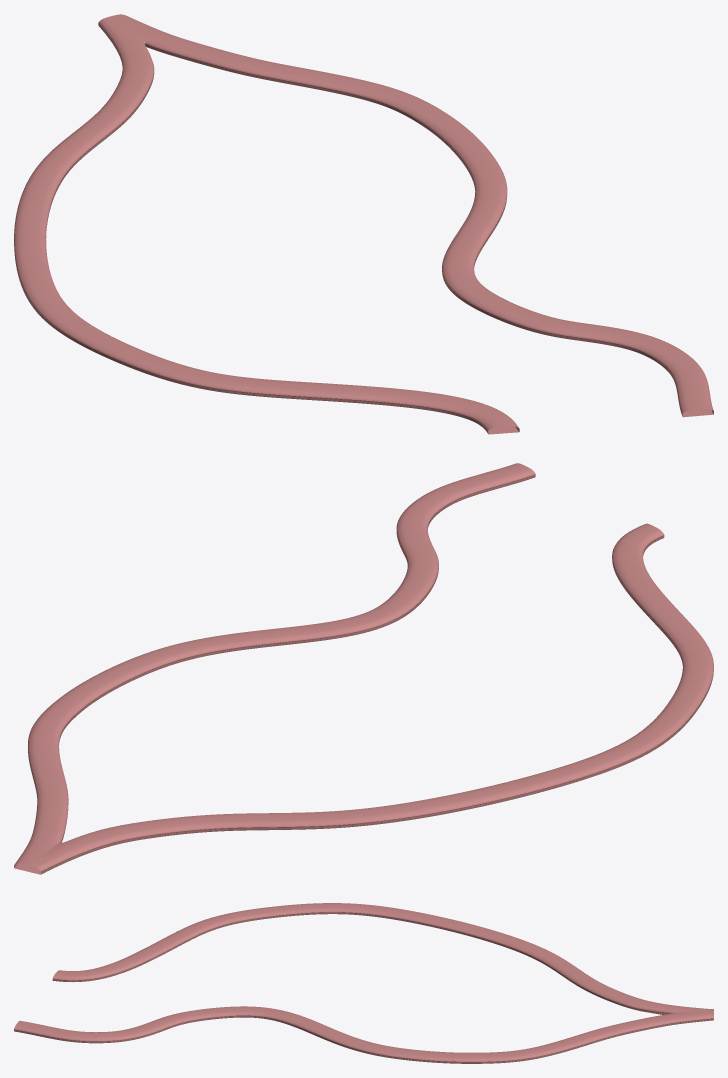
Rendered from future2_track2.fbx.
3 views of the same model, one above another, from view 1: azimuth 30°, elevation 25°; view 2: azimuth 150°, elevation 25°; view 3: azimuth 270°, elevation 25° (orthographic). The views are drawn at different scales.
Visible parts, largest first — view 1: future2_track2; view 2: future2_track2; view 3: future2_track2.
Boxes of the visible parts, x1=… form: future2_track2: x1=14, y1=14, x2=713, y2=434; future2_track2: x1=14, y1=463, x2=713, y2=874; future2_track2: x1=14, y1=903, x2=713, y2=1063.
Bounding box in the file's own units: 1215 × 15.6 × 2268.
